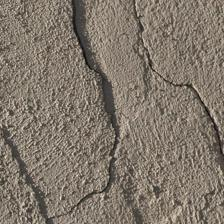Crack: (0, 17, 184, 163), (8, 74, 118, 150)
